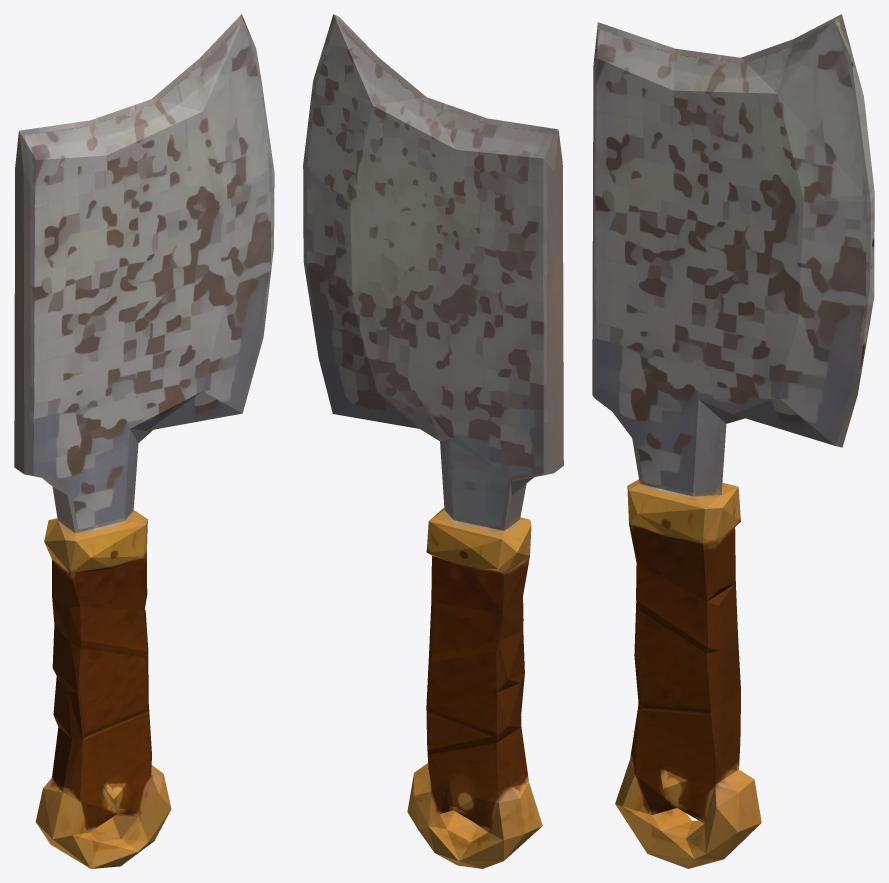
File: short_blade_axe.glb
3 renders of one model, left to right at view 1: azimuth 30°, elevation 25°; view 2: azimuth 150°, elevation 25°; view 3: azimuth 330°, elevation 25°, orthographic. The views are drawn at different scales.
Visible parts, largest first — view 1: TexturedMesh_.obj; view 2: TexturedMesh_.obj; view 3: TexturedMesh_.obj.
Boxes of the visible parts, bbox=[...] form: TexturedMesh_.obj: bbox=[14, 14, 274, 868]; TexturedMesh_.obj: bbox=[303, 14, 563, 868]; TexturedMesh_.obj: bbox=[592, 14, 874, 868].
Size of the model in its own units: 0.6472 by 1.98 by 0.1506.
1 material, 1 textured.
